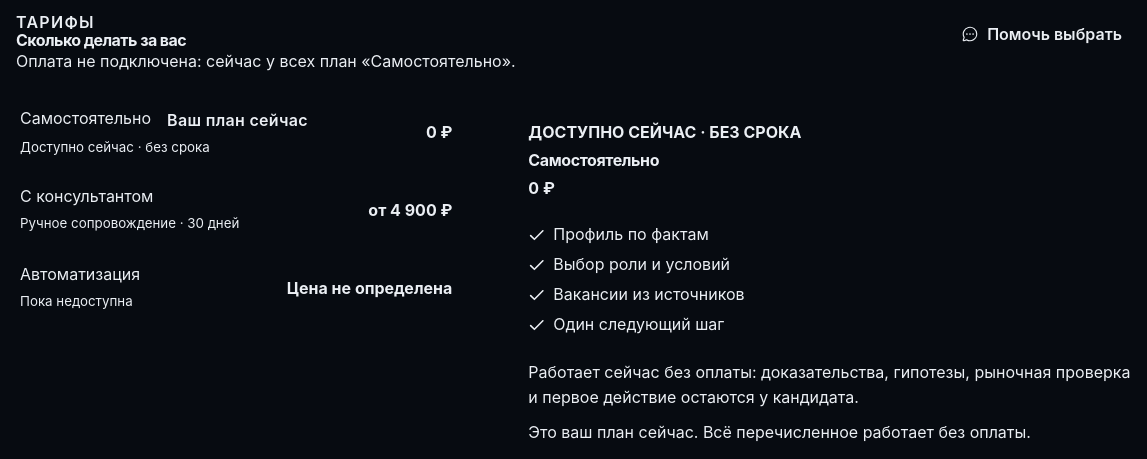
CareerTariffsView · заявка на план с консультантом › sends the request to the server and confirms only after it is stored with formatted date
Click the button "С консультантом от 4 900 ₽ Ручное сопровождение · 30 дней".
click(87, 196)  # box left=16, top=172, right=456, bottom=250
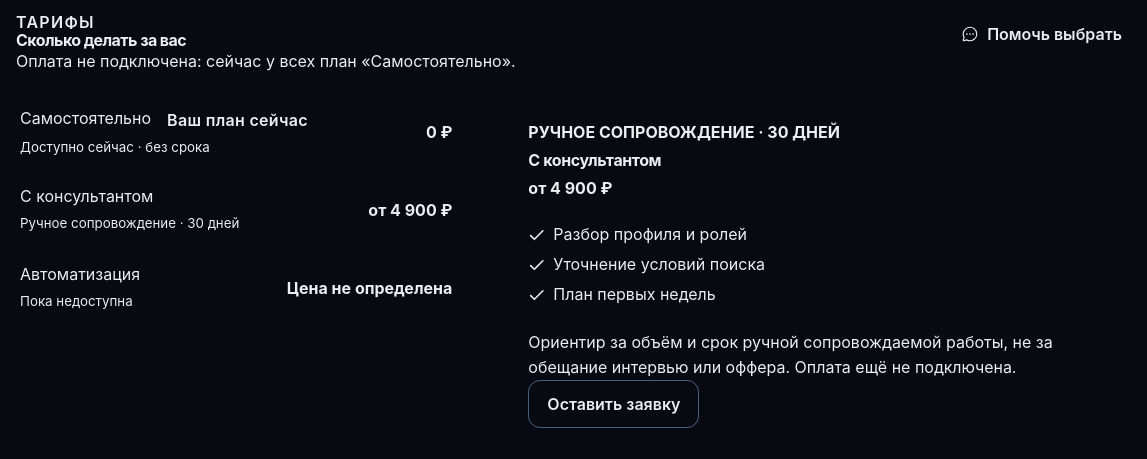
Expected: the button "Оставить заявку" is shown
Click the button "Оставить заявку".
click(614, 404)  # box left=528, top=380, right=700, bottom=428
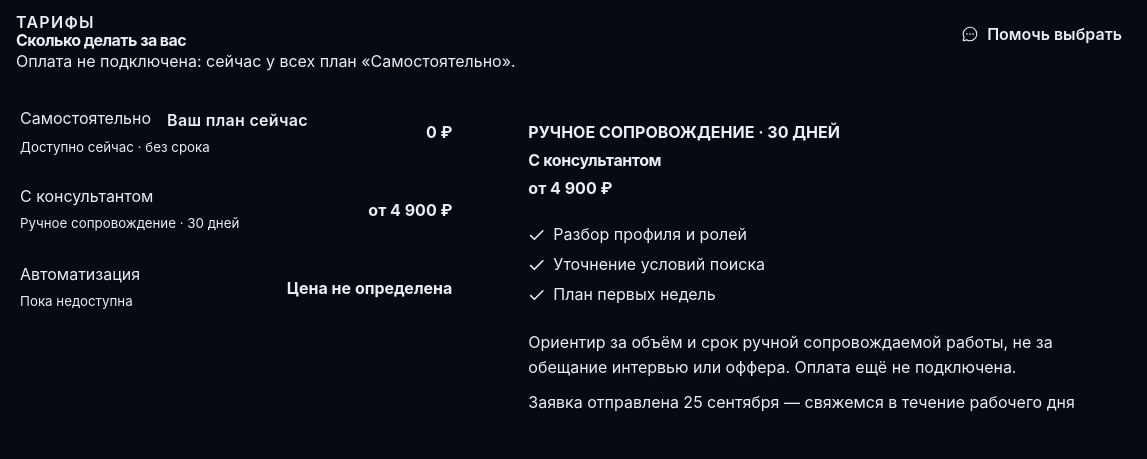
Expected: the text "Заявка отправлена 25 сентября — свяжемся в течение рабочего дня" is shown, left=528, top=392, right=1075, bottom=412
